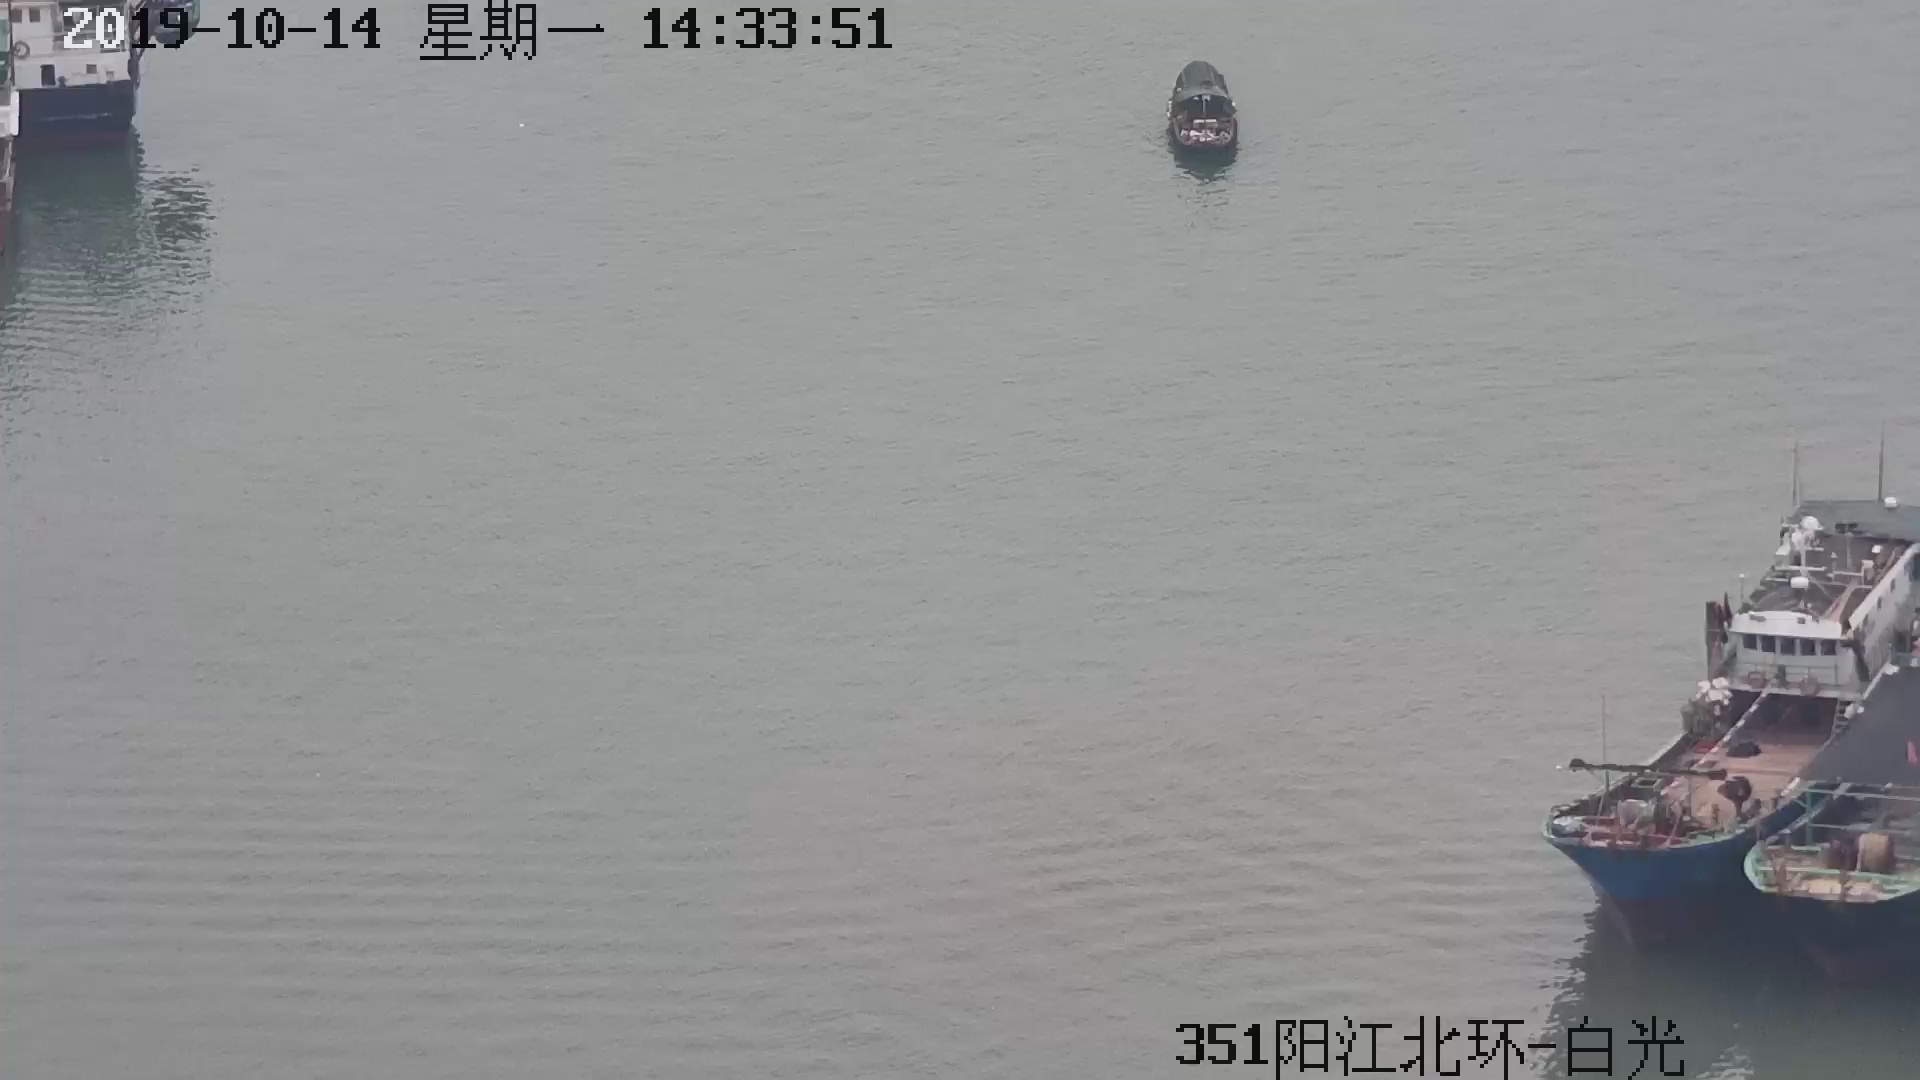ship: (1556, 459, 1920, 928), (1167, 65, 1240, 152)
